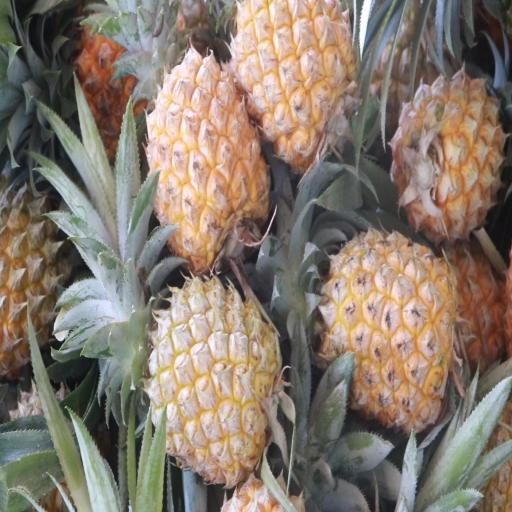------------------------------: (0, 183, 73, 346)
Pineapple - v8 v1: (149, 278, 281, 479), (148, 51, 272, 263), (324, 226, 455, 424), (233, 1, 357, 154), (397, 69, 503, 233)
